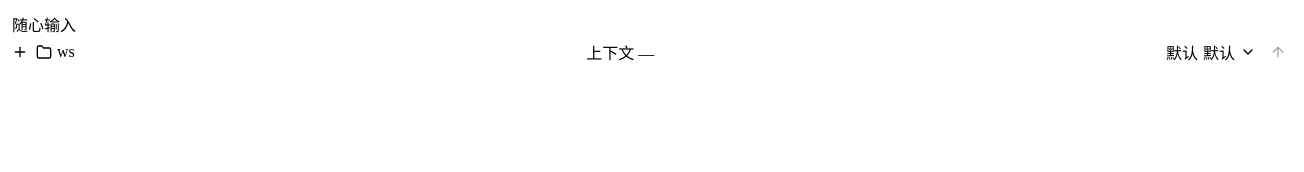
Scenario: ChatComposer skill slash › lists, filters, and inserts a destName without sending
Type "/" into the text box with test id "composer-input" at (652, 24), box x1=12 y1=12 x2=1292 y2=36
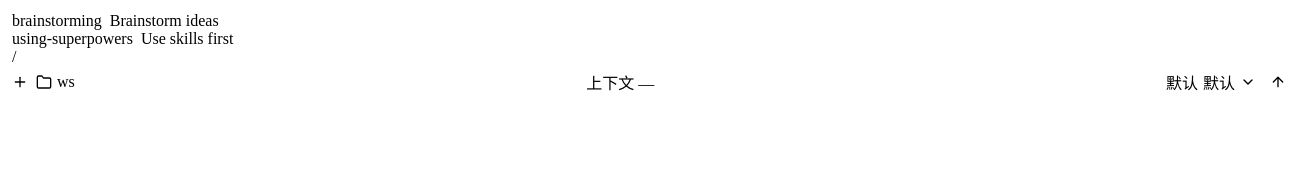
Result: the elements with test id "composer-skill-menu-item" read "brainstormingBrainstorm ideas", "using-superpowersUse skills first", in this order at x1=12 y1=12 x2=1292 y2=30; x1=12 y1=30 x2=1292 y2=48
Replace the text in the text box with test id "composer-input" with "/bra" at (652, 57), box x1=12 y1=48 x2=1292 y2=66
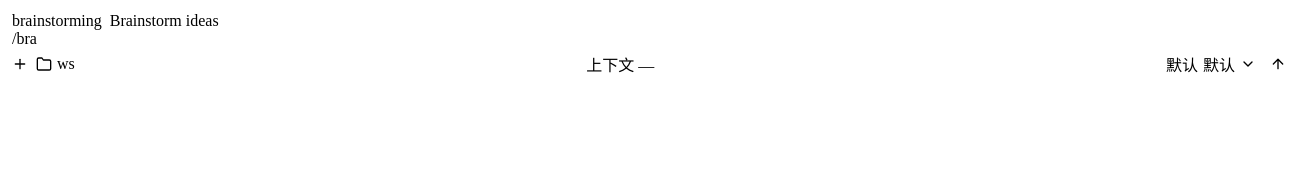
Result: the text "brainstorming" is shown at x1=12 y1=12 x2=102 y2=30
Result: the number of options with test id "composer-skill-menu-item" is 1 at x1=12 y1=12 x2=1292 y2=30
Press Enter in the text box with test id "composer-input", box x1=12 y1=30 x2=1292 y2=48
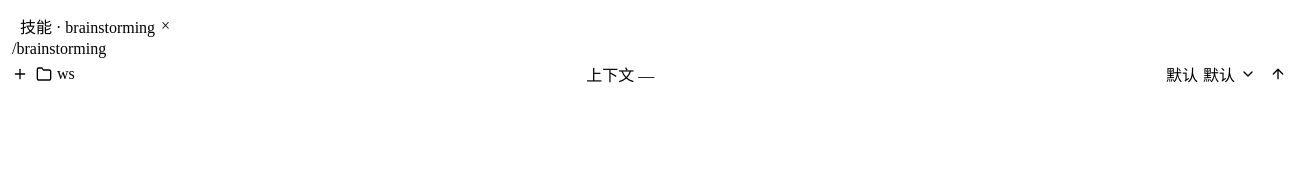
Result: the text box with test id "composer-input" holds "/brainstorming " at x1=12 y1=40 x2=1292 y2=58
Result: the element with test id "composer-skill-chip" shows "brainstorming" at x1=65 y1=19 x2=155 y2=36
